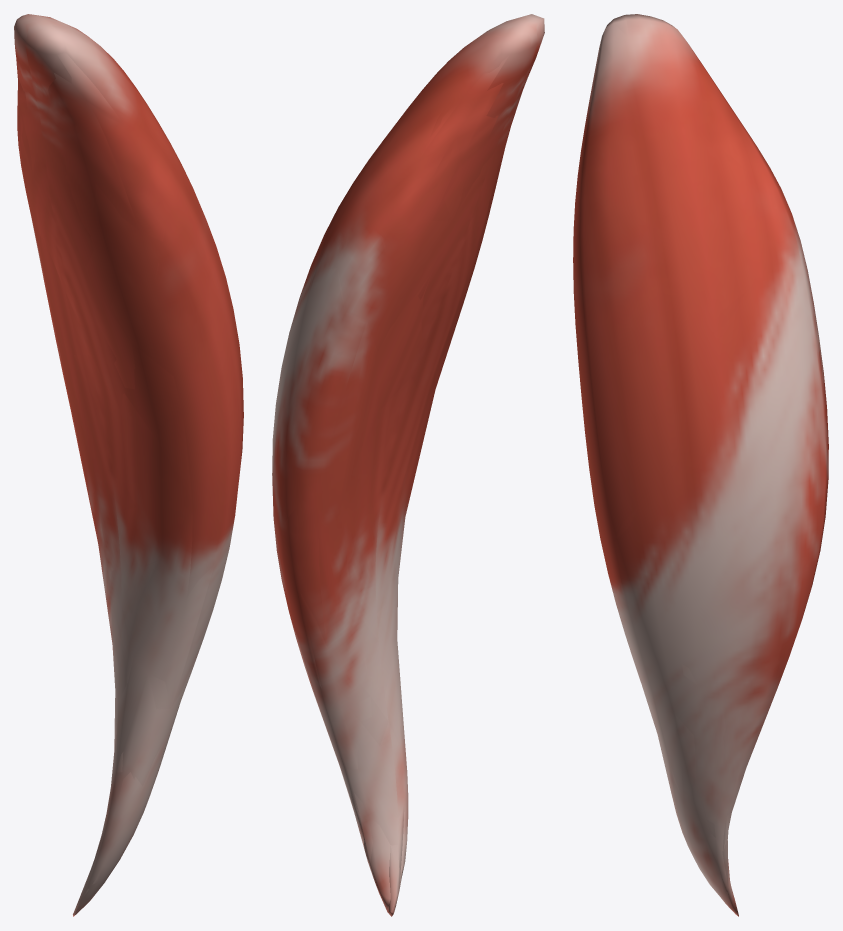
File: L Tensor Fasciae Latae.fbx
The picture shows the model from 3 angles, left to right: view 1: azimuth 30°, elevation 25°; view 2: azimuth 150°, elevation 25°; view 3: azimuth 270°, elevation 25°; orthographic projection. The views are drawn at different scales.
Visible parts, largest first — view 1: L Tensor Fasciae Latae, L Tensor Fasciae Latae low; view 2: L Tensor Fasciae Latae, L Tensor Fasciae Latae low; view 3: L Tensor Fasciae Latae, L Tensor Fasciae Latae low.
Part boxes in pixels (left/top/right/bottom): L Tensor Fasciae Latae: left=14, top=14, right=243, bottom=916; L Tensor Fasciae Latae low: left=14, top=14, right=243, bottom=911; L Tensor Fasciae Latae: left=272, top=14, right=544, bottom=916; L Tensor Fasciae Latae low: left=282, top=14, right=543, bottom=914; L Tensor Fasciae Latae: left=573, top=14, right=828, bottom=916; L Tensor Fasciae Latae low: left=585, top=19, right=825, bottom=916.
Bounding box in the file's own units: 7.16 × 28.43 × 7.66.
